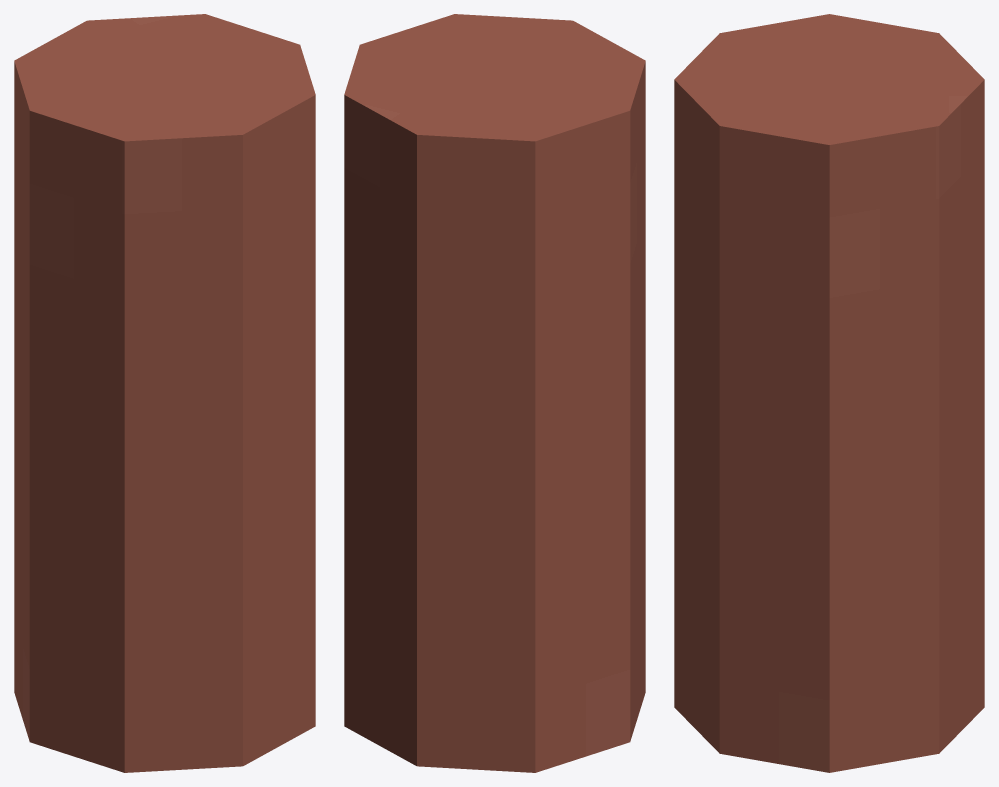
The model's file is glass.obj.
The picture shows the model from 3 angles, left to right: view 1: azimuth 30°, elevation 25°; view 2: azimuth 150°, elevation 25°; view 3: azimuth 270°, elevation 25°; orthographic projection.
Visible parts, largest first — view 1: sealed_glass_barrel; view 2: sealed_glass_barrel; view 3: sealed_glass_barrel.
Part boxes in pixels (bbox=[...]): sealed_glass_barrel: bbox=[14, 14, 315, 772]; sealed_glass_barrel: bbox=[344, 14, 645, 772]; sealed_glass_barrel: bbox=[674, 14, 984, 772].
Size of the model in its own units: 0.28 by 0.625 by 0.28.
